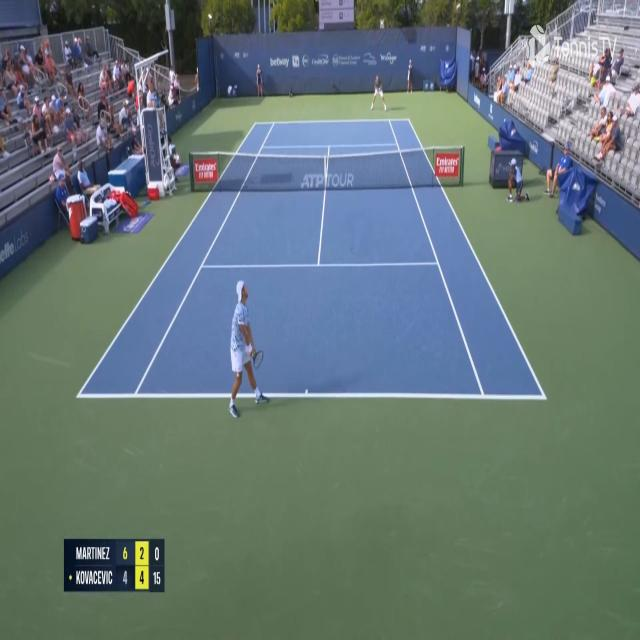tennis-player: (226, 279, 268, 422), (370, 74, 387, 112)
